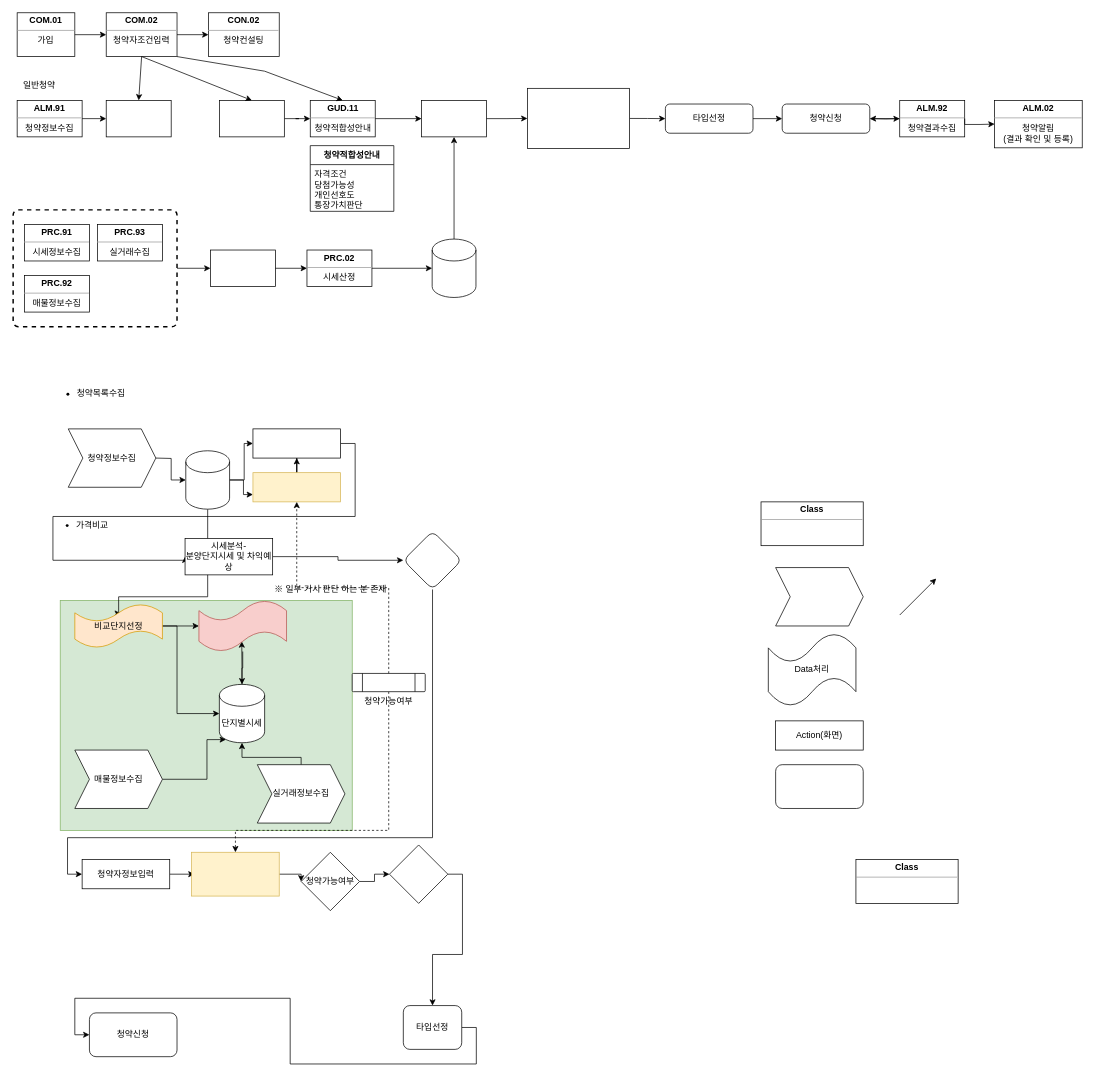
Some shapes in this 1095 by 1083 pixel diagram are drawn without their labels. Each missing label, with the box of its shape:
ALM.01 청약정보조회: (219, 100, 284, 137)
ALM.02 청약알림: (105, 100, 171, 137)
ANA.01 시세분석: (421, 100, 487, 137)
CON.02 청약컨설팅 (청약 타입,평형 및 유형 선정): (527, 88, 630, 149)
Human Action: (775, 764, 863, 808)
PRC.01 통합단지구성: (210, 249, 275, 287)
당첨확률존재?: (389, 844, 448, 903)
물건별 시세: (431, 238, 476, 297)
수집: (775, 567, 863, 626)
시세산정: (198, 600, 287, 652)
청약 신청?: (403, 530, 462, 589)
청약가능여부조회: (191, 852, 279, 896)
청약정보: (185, 450, 230, 509)
청약정보알림: (252, 472, 341, 502)
청약정보조회: (252, 428, 341, 458)
